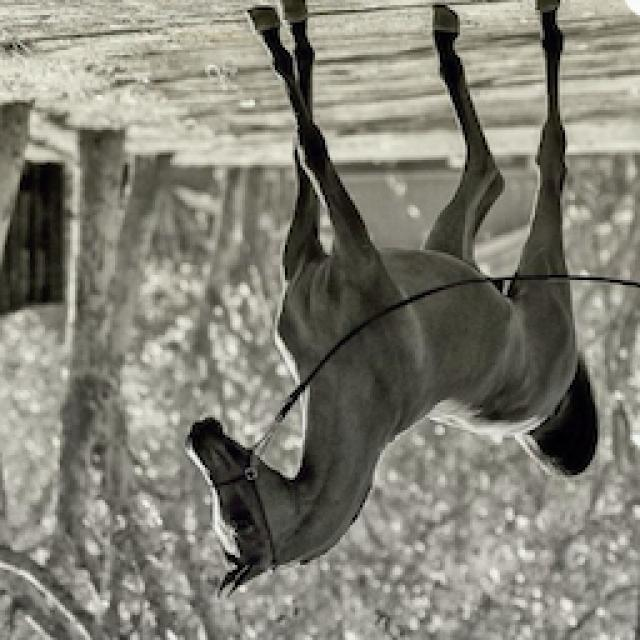Horse: (177, 2, 605, 602)
